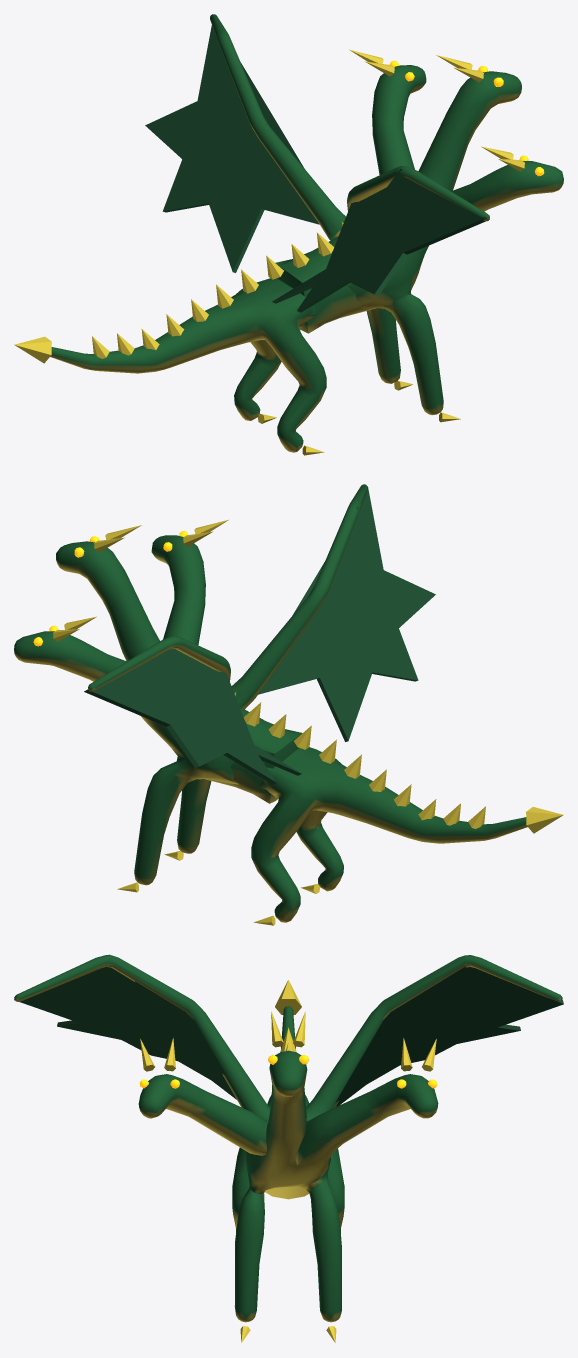
Rendered from zmey.glb.
The picture shows the model from 3 angles, top to bottom: view 1: azimuth 30°, elevation 25°; view 2: azimuth 150°, elevation 25°; view 3: azimuth 270°, elevation 25°; orthographic projection.
Parts seen in each view (by area): view 1: zmey.001; view 2: zmey.001; view 3: zmey.001.
Part boxes in pixels (x1=…): zmey.001: x1=14, y1=14, x2=563, y2=455; zmey.001: x1=14, y1=484, x2=563, y2=925; zmey.001: x1=14, y1=954, x2=563, y2=1342.
Size of the model in its own units: 3.38 by 2.16 by 3.21.
